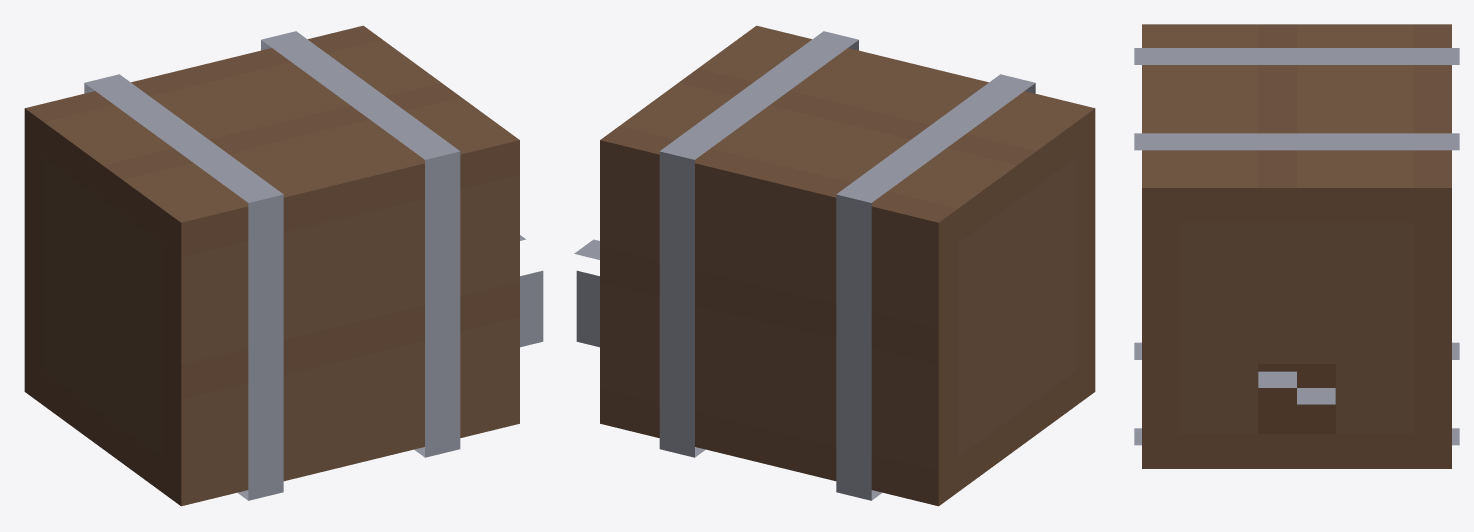
Rendered from barrel_2.gltf.
The picture shows the model from 3 angles, left to right: view 1: azimuth 30°, elevation 25°; view 2: azimuth 150°, elevation 25°; view 3: azimuth 270°, elevation 25°; orthographic projection.
Visible parts, largest first — view 1: cube (×3); view 2: cube (×3); view 3: cube (×3).
Part boxes in pixels (x1,y1,x2,y2): cube (×3): (24,25,543,506); cube (×3): (576,25,1095,506); cube (×3): (1134,24,1459,468).
Size of the model in its own units: 0.825 by 0.525 by 0.525.
Materials: 1 (1 with a texture image).
